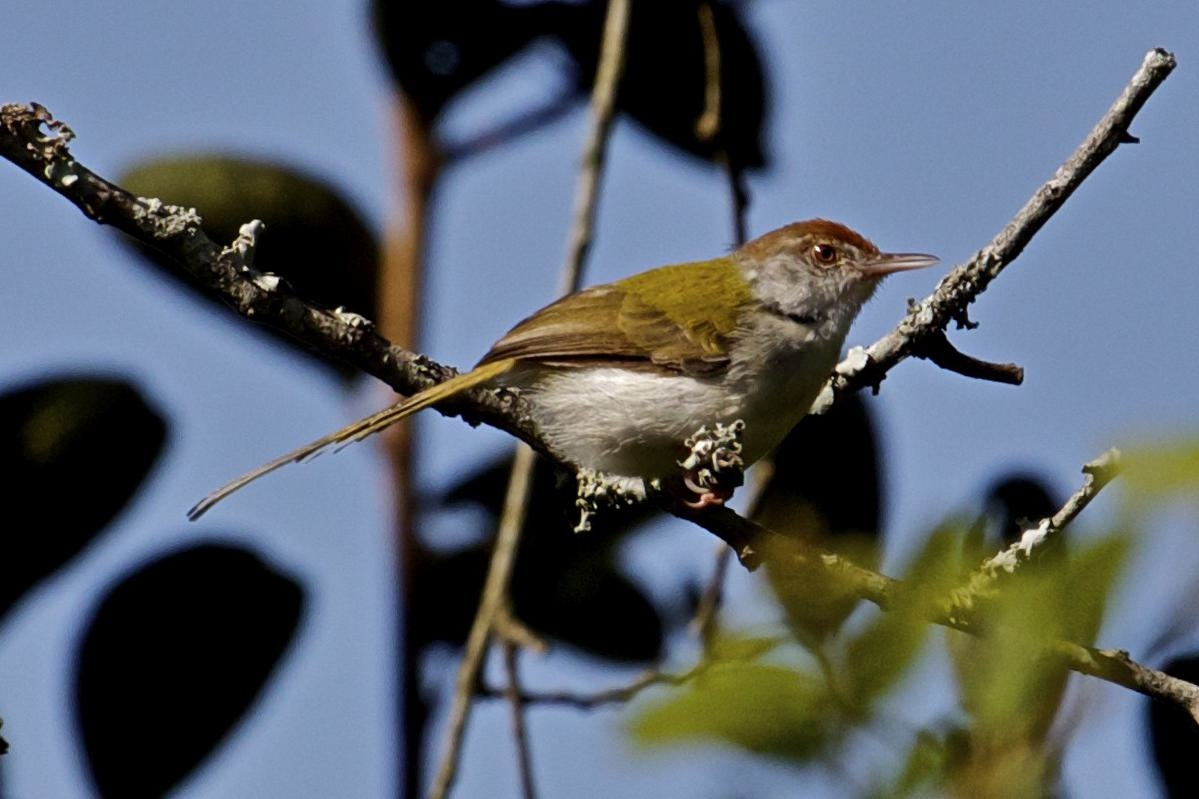tailorbird: (130, 164, 1022, 677)
